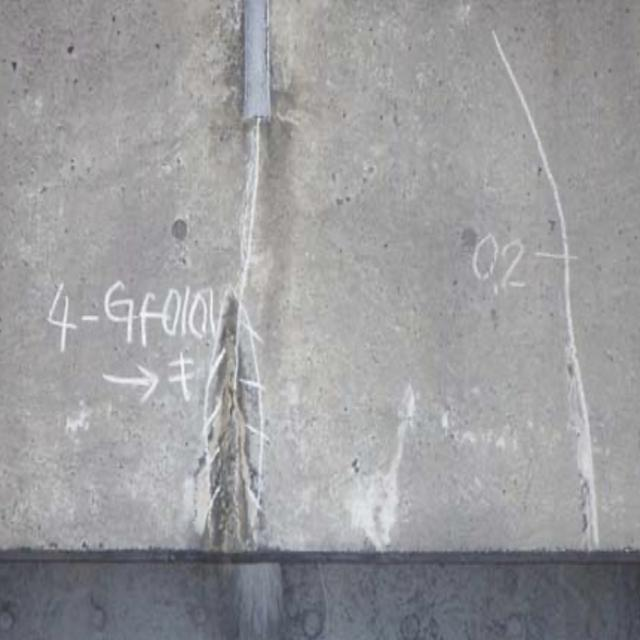crack: (196, 286, 280, 533)
